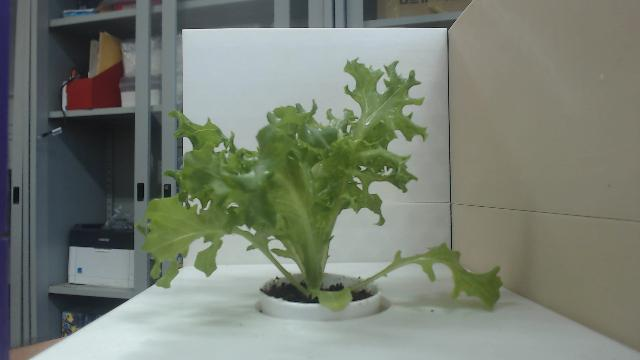Harvest Stage: (135, 56, 502, 314)
